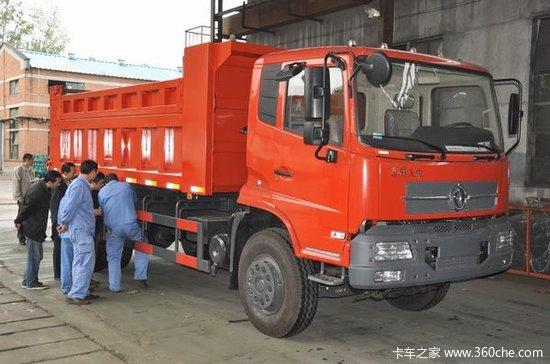truck: (31, 26, 517, 336)
